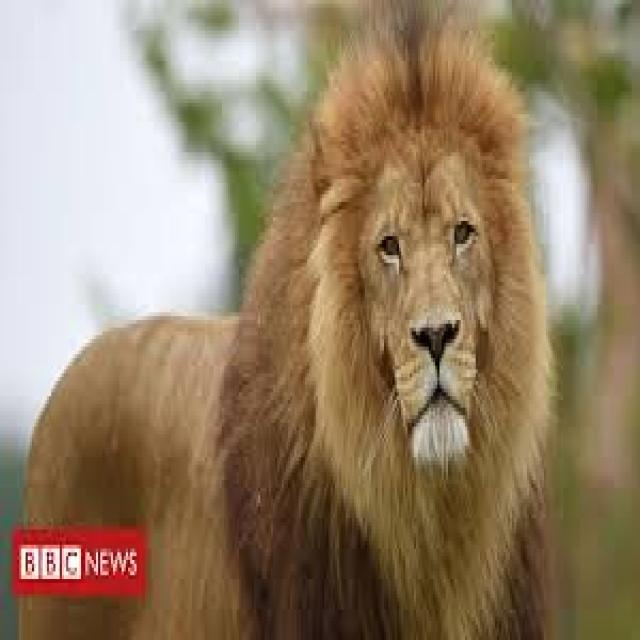Lion: (11, 58, 554, 636)
